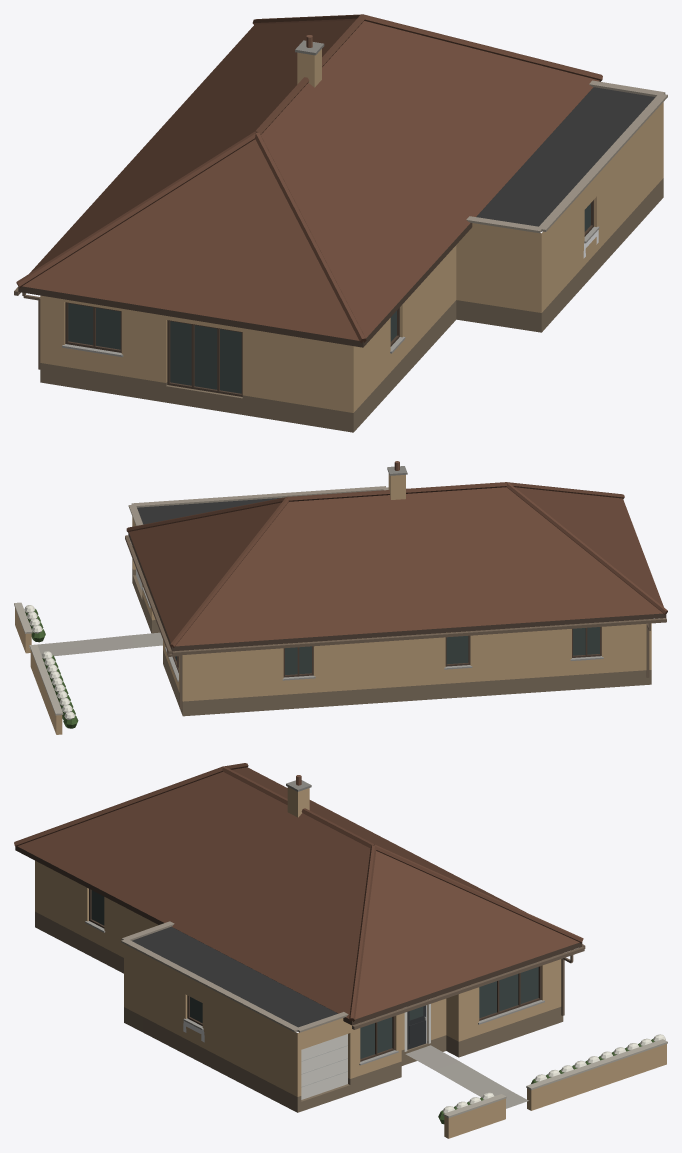
Rendered from vh_buff_bungalow.glb.
The picture shows the model from 3 angles, top to bottom: view 1: azimuth 30°, elevation 25°; view 2: azimuth 150°, elevation 25°; view 3: azimuth 270°, elevation 25°; orthographic projection. The views are drawn at different scales.
Parts seen in each view (by area): view 1: vh_roof, vh_brick, vh_trim, vh_stone, vh_glass, vh_frames_small; view 2: vh_roof, vh_brick, vh_trim, vh_frames_small, vh_stone, vh_glass, vh_paving, vh_flowers_small; view 3: vh_roof, vh_brick, vh_trim, vh_stone, vh_glass, vh_frames_small, vh_paving, vh_flowers_small.
Boxes of the visible parts, left/top/right/bottom form: vh_roof: left=16, top=14, right=602, bottom=343; vh_brick: left=40, top=49, right=663, bottom=412; vh_trim: left=18, top=81, right=663, bottom=432; vh_stone: left=62, top=35, right=667, bottom=357; vh_glass: left=68, top=203, right=590, bottom=393; vh_frames_small: left=14, top=200, right=593, bottom=396; vh_roof: left=126, top=482, right=667, bottom=647; vh_brick: left=15, top=473, right=651, bottom=734; vh_trim: left=128, top=532, right=666, bottom=716; vh_frames_small: left=125, top=535, right=666, bottom=709; vh_stone: left=14, top=461, right=603, bottom=715; vh_glass: left=175, top=627, right=599, bottom=674; vh_paving: left=29, top=632, right=162, bottom=656; vh_flowers_small: left=24, top=605, right=78, bottom=728; vh_roof: left=14, top=763, right=583, bottom=1021; vh_brick: left=35, top=787, right=666, bottom=1138; vh_trim: left=15, top=846, right=582, bottom=1112; vh_stone: left=85, top=775, right=667, bottom=1118; vh_glass: left=91, top=890, right=538, bottom=1058; vh_frames_small: left=89, top=889, right=585, bottom=1087; vh_paving: left=405, top=1045, right=528, bottom=1108; vh_flowers_small: left=438, top=1034, right=665, bottom=1124.
Bounding box in the file's own units: 25.23 × 8.1 × 23.94.
